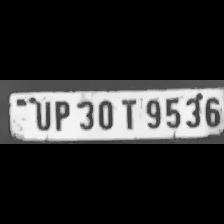0: (94, 97, 118, 130)
3: (182, 94, 202, 130), (74, 97, 94, 131)
5: (161, 94, 181, 130)
6: (202, 94, 222, 128)
9: (140, 95, 162, 129)
P: (50, 97, 72, 131)
T: (116, 96, 140, 130)
U: (29, 97, 51, 130)
